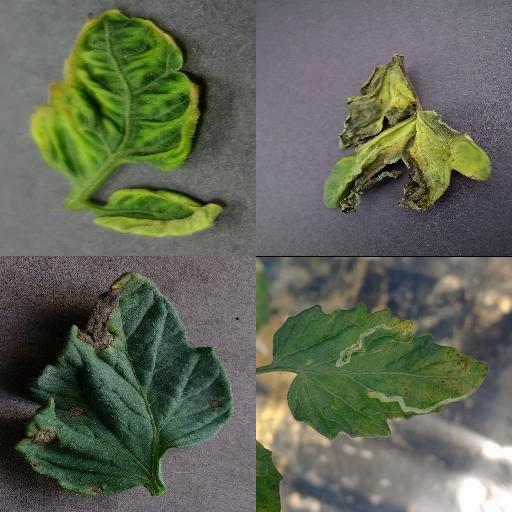Early Blight: (14, 270, 234, 498)
Late Blight: (323, 55, 491, 215)
Leaf Miner: (271, 300, 489, 442)
Yellow Leaf Curl Virus: (30, 9, 200, 185), (97, 187, 225, 237)
